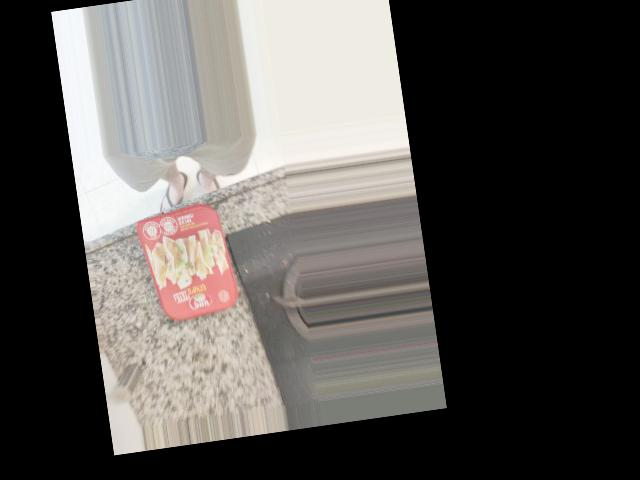cheese: (135, 200, 241, 319)
